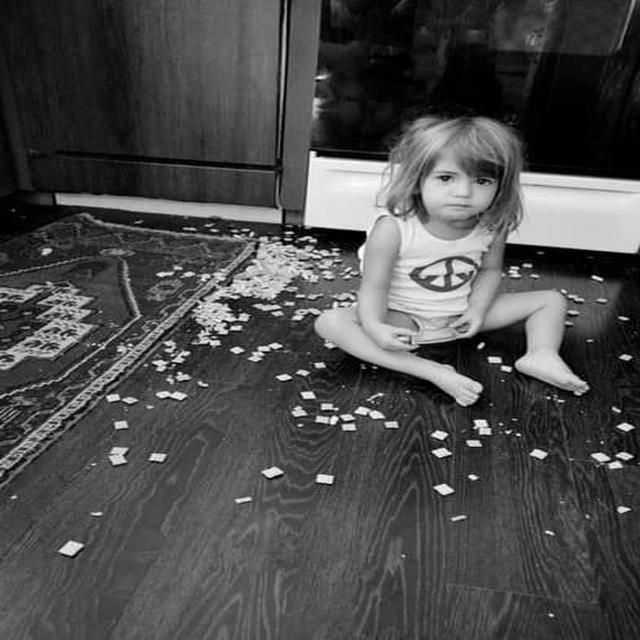Sadness: (430, 158, 495, 220)
